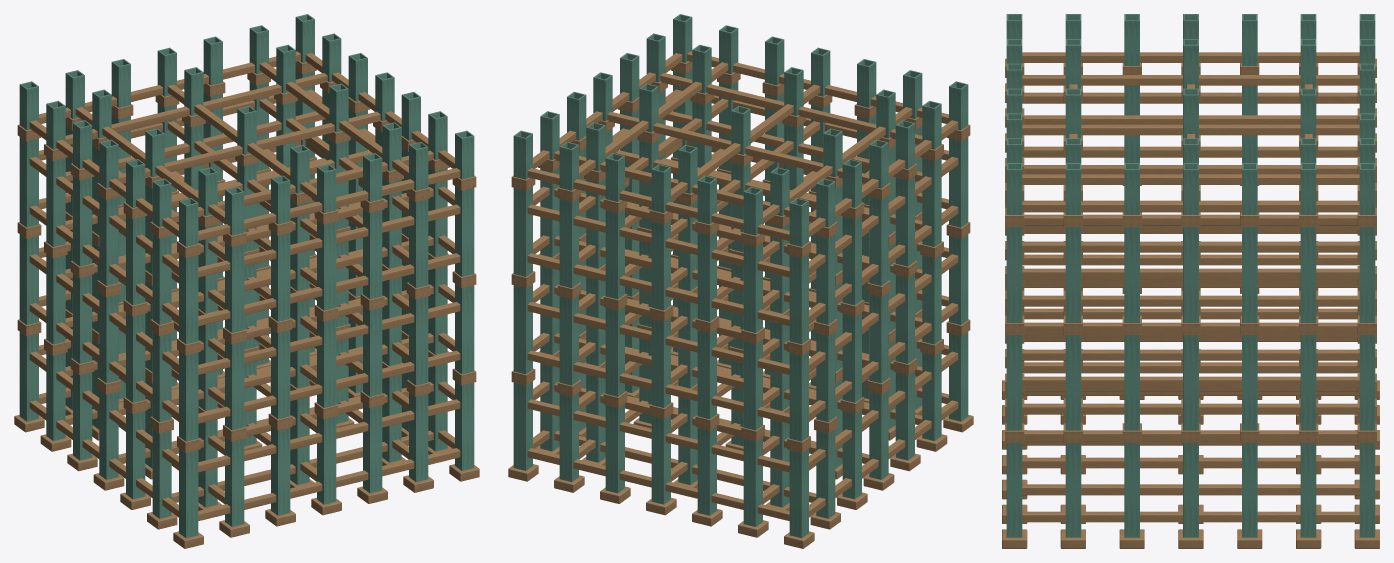
The picture shows the model from 3 angles, left to right: view 1: azimuth 30°, elevation 25°; view 2: azimuth 150°, elevation 25°; view 3: azimuth 270°, elevation 25°; orthographic projection. The views are drawn at different scales.
Visible parts, largest first — view 1: Tier 3 internal tie 0-0-0-0.25, Tier 3 internal tie 0-0.56-0-0.25, Tier 2 tie 0-0-0.25, Tier 1 tie 0-0-0.75, Tier 2 tie 0-0-0.75, Tier 0 tie 0-0-0.75, Tier 3 tie 0-0-0.25, Tier 1 tie 0-0-0.25, Tier 0 tie 0-0-0.25, Tier 1 upright 0, Tier 2 upright 0, Tier 0 upright 0 (+116 smaller); view 2: Tier 3 internal tie 0-0-0-0.25, Tier 3 internal tie 0--0.56-0-0.25, Tier 2 tie 2-0-0.25, Tier 1 tie 2-0-0.75, Tier 2 tie 2-0-0.75, Tier 0 tie 2-0-0.75, Tier 3 tie 2-0-0.25, Tier 1 tie 2-0-0.25, Tier 0 tie 2-0-0.25, Tier 1 upright 18, Tier 2 upright 18, Tier 0 upright 18 (+116 smaller); view 3: Tier 3 internal tie 1-0-0-0.25, Tier 3 internal tie 1--0.56-0-0.25, Tier 0 internal tie 1-0.56-0-0.25, Tier 1 tie 1-0-0.25, Tier 1 tie 1-0-0.75, Tier 2 internal tie 1-0.56-0-0.25, Tier 2 tie 1-0-0.25, Tier 2 tie 1-0-0.75, Tier 3 tie 1-0-0.25, Tier 0 tie 1-0-0.25, Tier 0 tie 1-0-0.75, Tier 1 internal tie 1-0.56-0-0.25 (+60 smaller).
Boxes of the visible parts, bbox=[...] form: Tier 3 internal tie 0-0-0-0.25: bbox=[118, 111, 380, 183]; Tier 3 internal tie 0-0.56-0-0.25: bbox=[65, 73, 327, 144]; Tier 2 tie 0-0-0.25: bbox=[198, 253, 460, 326]; Tier 1 tie 0-0-0.75: bbox=[198, 302, 460, 374]; Tier 2 tie 0-0-0.75: bbox=[198, 204, 460, 277]; Tier 0 tie 0-0-0.75: bbox=[198, 399, 460, 472]; Tier 3 tie 0-0-0.25: bbox=[198, 168, 460, 240]; Tier 1 tie 0-0-0.25: bbox=[198, 350, 460, 423]; Tier 0 tie 0-0-0.25: bbox=[198, 448, 460, 520]; Tier 1 upright 0: bbox=[179, 351, 198, 441]; Tier 2 upright 0: bbox=[179, 253, 198, 344]; Tier 0 upright 0: bbox=[179, 448, 198, 538]; Tier 3 internal tie 0-0-0-0.25: bbox=[607, 111, 869, 183]; Tier 3 internal tie 0--0.56-0-0.25: bbox=[660, 73, 922, 144]; Tier 2 tie 2-0-0.25: bbox=[527, 253, 789, 326]; Tier 1 tie 2-0-0.75: bbox=[527, 302, 789, 374]; Tier 2 tie 2-0-0.75: bbox=[527, 204, 789, 277]; Tier 0 tie 2-0-0.75: bbox=[527, 399, 789, 472]; Tier 3 tie 2-0-0.25: bbox=[527, 168, 789, 240]; Tier 1 tie 2-0-0.25: bbox=[527, 350, 789, 423]; Tier 0 tie 2-0-0.25: bbox=[527, 448, 789, 520]; Tier 1 upright 18: bbox=[789, 351, 808, 441]; Tier 2 upright 18: bbox=[789, 253, 808, 344]; Tier 0 upright 18: bbox=[789, 448, 808, 538]; Tier 3 internal tie 1-0-0-0.25: bbox=[1022, 124, 1359, 135]; Tier 3 internal tie 1--0.56-0-0.25: bbox=[1022, 75, 1359, 85]; Tier 0 internal tie 1-0.56-0-0.25: bbox=[1022, 484, 1359, 495]; Tier 1 tie 1-0-0.25: bbox=[1022, 403, 1359, 414]; Tier 1 tie 1-0-0.75: bbox=[1022, 349, 1359, 360]; Tier 2 internal tie 1-0.56-0-0.25: bbox=[1022, 268, 1359, 279]; Tier 2 tie 1-0-0.25: bbox=[1022, 295, 1359, 306]; Tier 2 tie 1-0-0.75: bbox=[1022, 241, 1359, 252]; Tier 3 tie 1-0-0.25: bbox=[1022, 201, 1359, 212]; Tier 0 tie 1-0-0.25: bbox=[1022, 511, 1359, 522]; Tier 0 tie 1-0-0.75: bbox=[1022, 457, 1359, 468]; Tier 1 internal tie 1-0.56-0-0.25: bbox=[1022, 376, 1359, 387].
Bounding box in the file's own units: 1.8 × 1.98 × 1.8.
2 materials, 2 textured.
